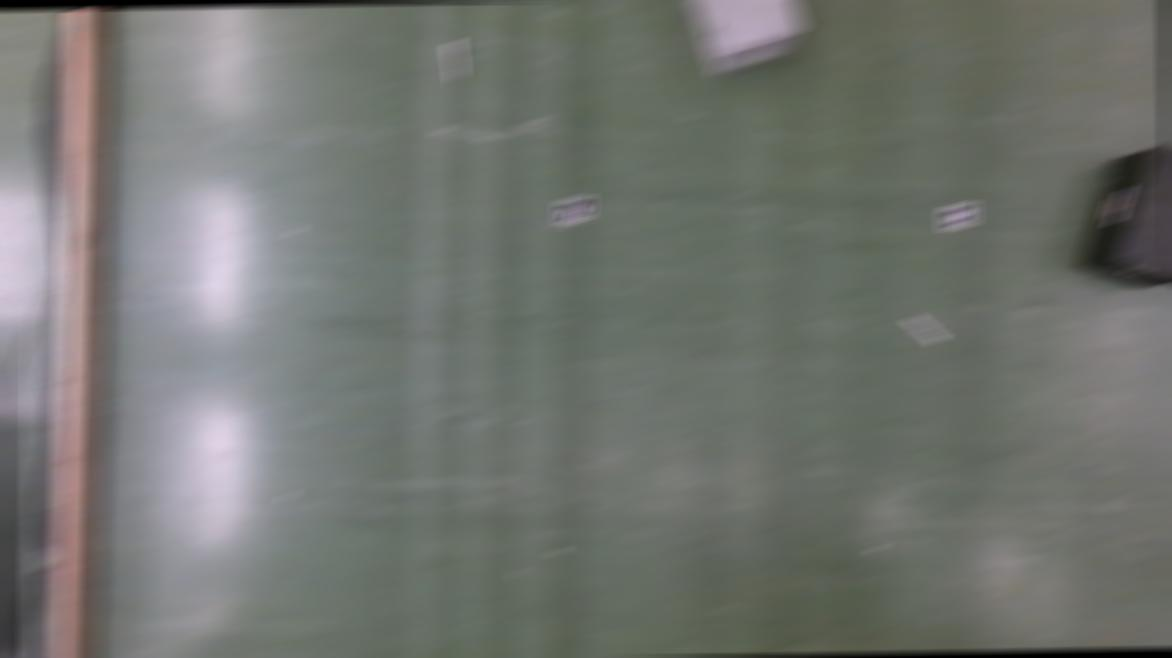probes: (906, 316, 944, 346), (446, 40, 463, 81)
rako: (1074, 144, 1172, 289), (687, 1, 807, 77)
